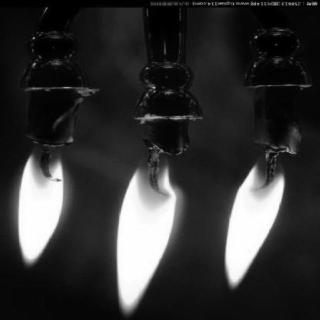Fire: (107, 152, 183, 314), (222, 157, 294, 297)
